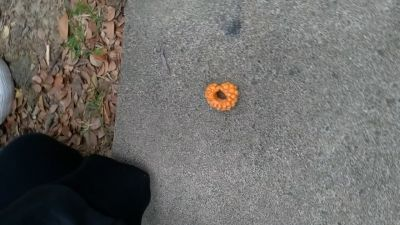eggs: (204, 81, 240, 112)
